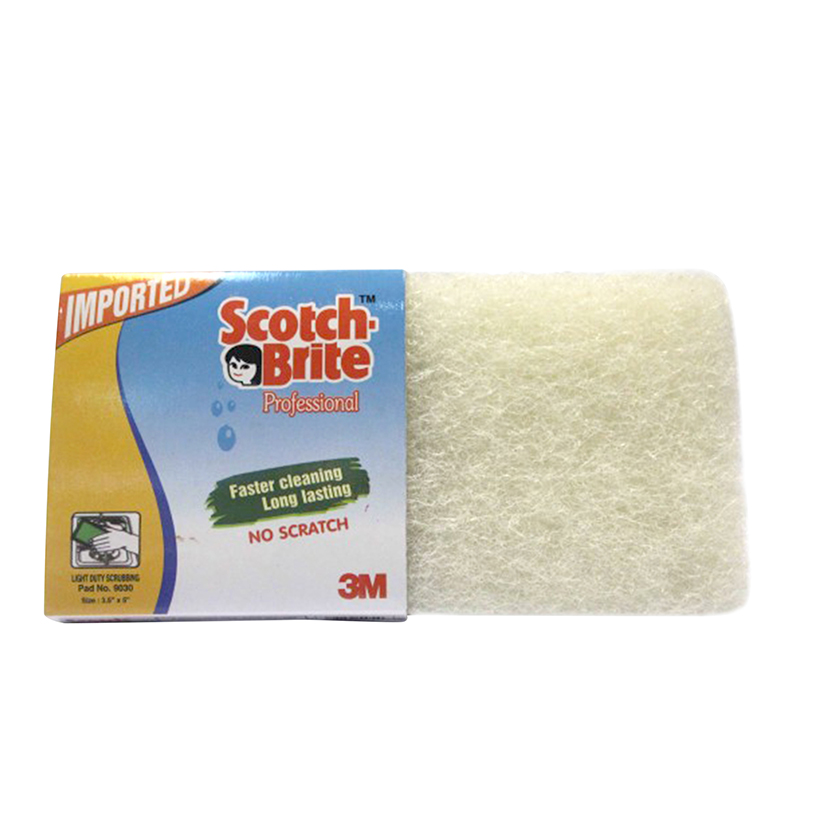3M: (328, 557, 395, 608)
